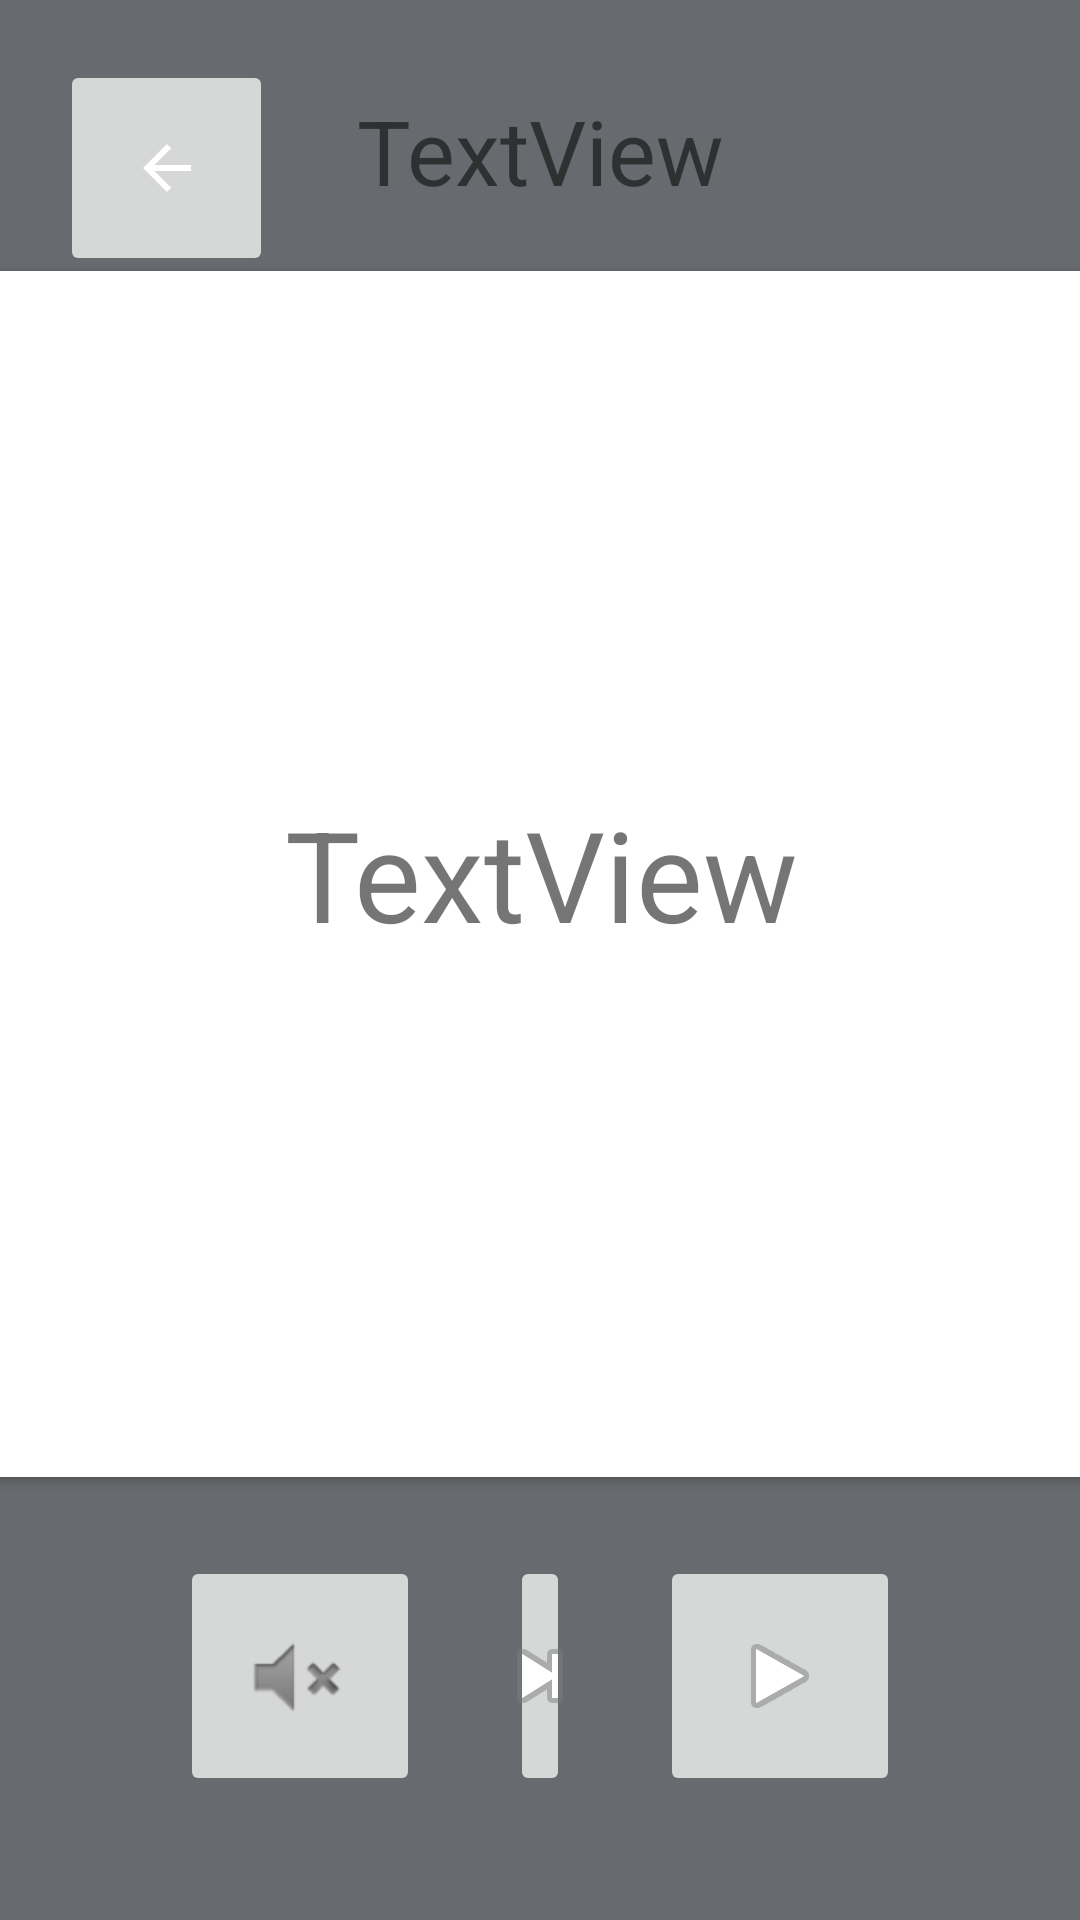

Screen size 1080 x 1920. Icon name, then its box in pixels as (x1, y1, x2, y2):
lock silent mode: (192, 1574, 408, 1778)
play: (672, 1574, 888, 1778)
